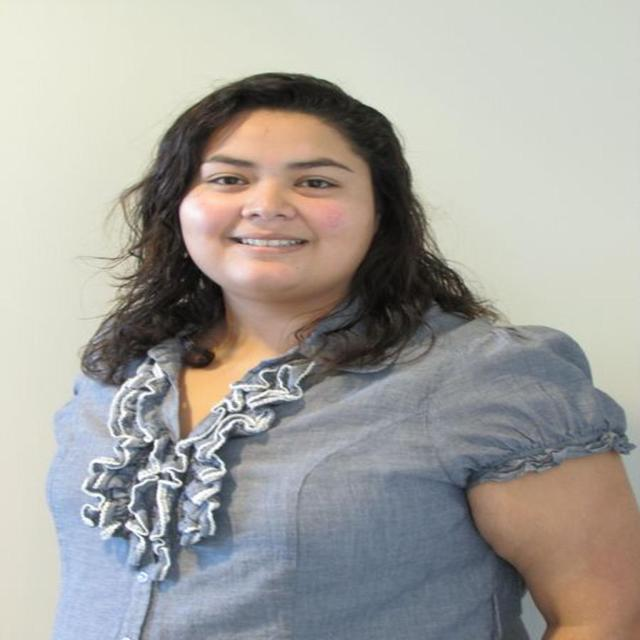Face: (156, 112, 389, 299)
